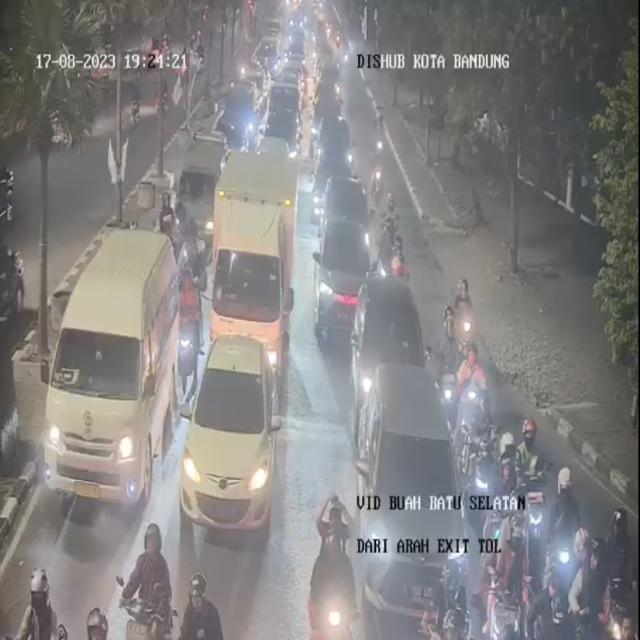cars: (46, 230, 180, 516), (362, 350, 476, 634), (180, 328, 284, 533), (347, 268, 425, 430), (320, 218, 374, 335), (178, 132, 232, 238), (317, 175, 371, 240), (265, 90, 301, 174), (314, 150, 356, 197), (316, 112, 358, 157)
motorcycle: (546, 461, 588, 617), (491, 494, 535, 639), (600, 502, 638, 640), (132, 519, 174, 638), (465, 392, 498, 539), (566, 527, 608, 640), (489, 435, 526, 546), (11, 568, 60, 640), (430, 551, 470, 638), (177, 566, 225, 638), (436, 303, 461, 419), (458, 336, 485, 438), (175, 270, 203, 368), (180, 200, 207, 290), (516, 415, 542, 494), (452, 275, 476, 353), (378, 210, 401, 280), (75, 606, 117, 640), (156, 194, 176, 252), (365, 159, 383, 201), (371, 115, 386, 162)
truck: (211, 146, 298, 377)
